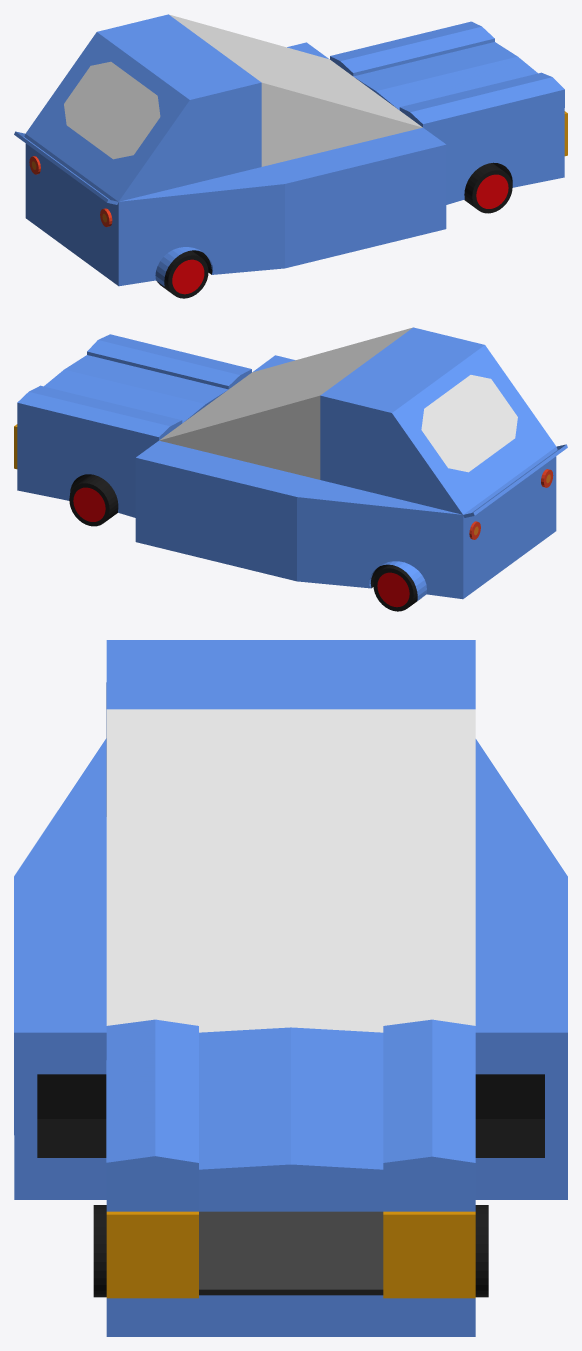
The model's file is utandefx.glb.
The picture shows the model from 3 angles, top to bottom: view 1: azimuth 30°, elevation 25°; view 2: azimuth 150°, elevation 25°; view 3: azimuth 270°, elevation 25°; orthographic projection. The views are drawn at different scales.
Parts seen in each view (by area): view 1: utandeFX, front_right_wheel, rear_right_wheel; view 2: utandeFX, front_left_wheel, rear_left_wheel; view 3: utandeFX, front_right_wheel, front_left_wheel.
Part boxes in pixels (left/top/right/bottom): utandeFX: left=14, top=14, right=567, bottom=286; front_right_wheel: left=464, top=163, right=512, bottom=213; rear_right_wheel: left=157, top=250, right=208, bottom=298; utandeFX: left=14, top=327, right=567, bottom=600; front_left_wheel: left=69, top=474, right=118, bottom=526; rear_left_wheel: left=373, top=564, right=417, bottom=611; utandeFX: left=14, top=640, right=567, bottom=1336; front_right_wheel: left=93, top=1205, right=106, bottom=1297; front_left_wheel: left=475, top=1205, right=488, bottom=1297.
Bounding box in the file's own units: 5.71 × 2.17 × 3.
